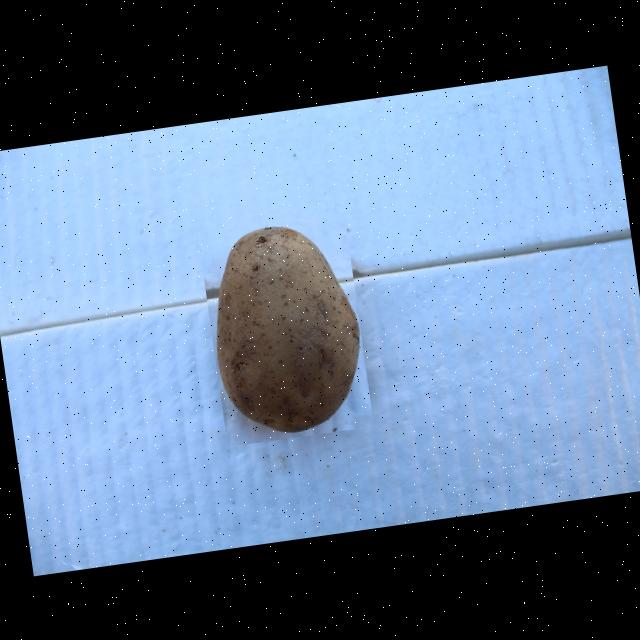Diseased-fungal potato: (196, 212, 374, 446)
